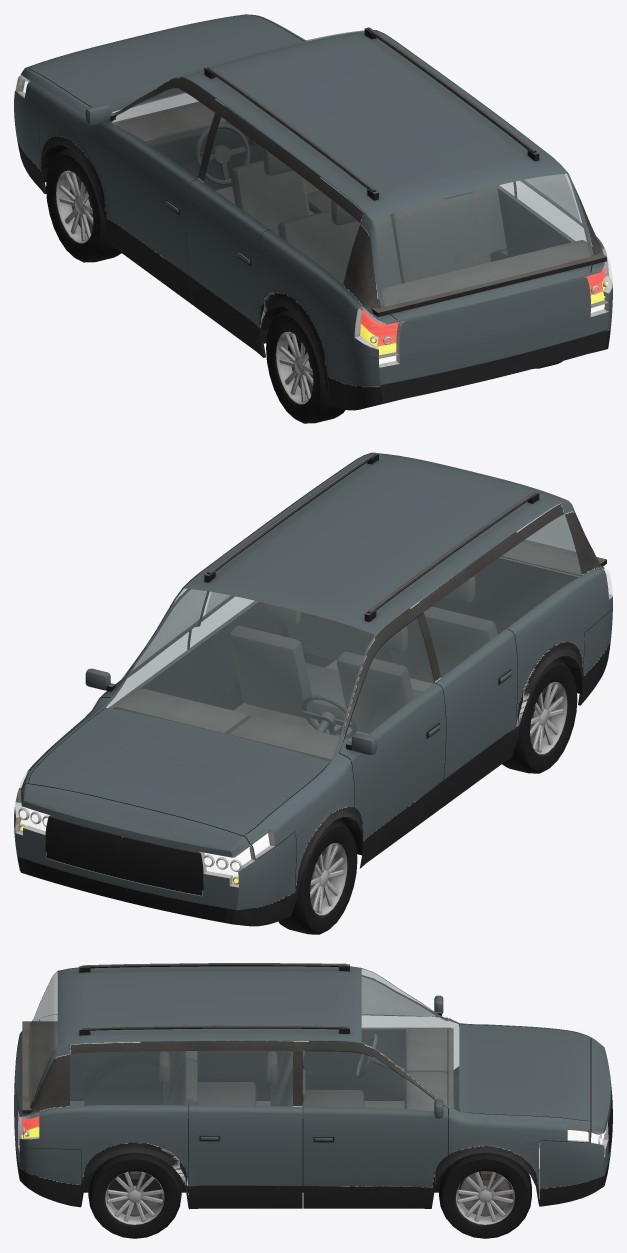
Rendered from suv.glb.
The picture shows the model from 3 angles, top to bottom: view 1: azimuth 30°, elevation 25°; view 2: azimuth 150°, elevation 25°; view 3: azimuth 270°, elevation 25°; orthographic projection. The views are drawn at different scales.
Visible parts, largest first — view 1: lod0, window_rear, door_fl, bumper_r, hood, window_l, wheel_rl_mesh, wheel_fl_mesh, bumper_f, trunk, window_r, steering_wheel_mesh (+1 smaller); view 2: lod0, window_front, bumper_f, hood, door_fl, window_l, wheel_fl_mesh, wheel_rl_mesh, door_fr, bumper_r, window_rear, steering_wheel_mesh; view 3: lod0, door_fr, window_r, hood, window_front, wheel_fr, bumper_f, wheel_rr, bumper_r, window_rear, door_fl, trunk (+1 smaller).
Boxes of the visible parts, x1=… form: lod0: x1=15, y1=14, x2=612, y2=407; window_rear: x1=373, y1=173, x2=590, y2=306; door_fl: x1=85, y1=88, x2=215, y2=304; bumper_r: x1=326, y1=295, x2=612, y2=410; hood: x1=28, y1=14, x2=303, y2=112; window_l: x1=204, y1=117, x2=359, y2=284; wheel_rl_mesh: x1=266, y1=309, x2=345, y2=423; wheel_fl_mesh: x1=46, y1=148, x2=121, y2=262; bumper_f: x1=14, y1=20, x2=206, y2=193; trunk: x1=390, y1=265, x2=591, y2=320; window_r: x1=521, y1=174, x2=581, y2=225; steering_wheel_mesh: x1=195, y1=123, x2=250, y2=185; lod0: x1=19, y1=452, x2=612, y2=914; window_front: x1=106, y1=588, x2=374, y2=761; bumper_f: x1=14, y1=783, x2=296, y2=926; hood: x1=28, y1=708, x2=329, y2=836; door_fl: x1=339, y1=617, x2=445, y2=868; window_l: x1=424, y1=514, x2=581, y2=677; wheel_fl_mesh: x1=278, y1=820, x2=357, y2=934; wheel_rl_mesh: x1=502, y1=659, x2=577, y2=773; door_fr: x1=85, y1=589, x2=206, y2=698; bumper_r: x1=578, y1=607, x2=612, y2=705; window_rear: x1=522, y1=514, x2=576, y2=555; steering_wheel_mesh: x1=302, y1=695, x2=356, y2=738; lod0: x1=14, y1=963, x2=590, y2=1209; door_fr: x1=303, y1=1051, x2=448, y2=1208; window_r: x1=70, y1=1050, x2=292, y2=1106; hood: x1=459, y1=1024, x2=590, y2=1121; window_front: x1=361, y1=969, x2=459, y2=1110; wheel_fr: x1=439, y1=1152, x2=531, y2=1238; bumper_f: x1=539, y1=1037, x2=612, y2=1206; wheel_rr: x1=88, y1=1152, x2=181, y2=1238; bumper_r: x1=14, y1=1107, x2=81, y2=1207; window_rear: x1=28, y1=972, x2=57, y2=1105; door_fl: x1=361, y1=975, x2=448, y2=1020; trunk: x1=15, y1=1034, x2=22, y2=1111.
Size of what is drawn, in the model's own units: 2.17 by 1.77 by 4.89.
Materials: 10 (8 with a texture image).
